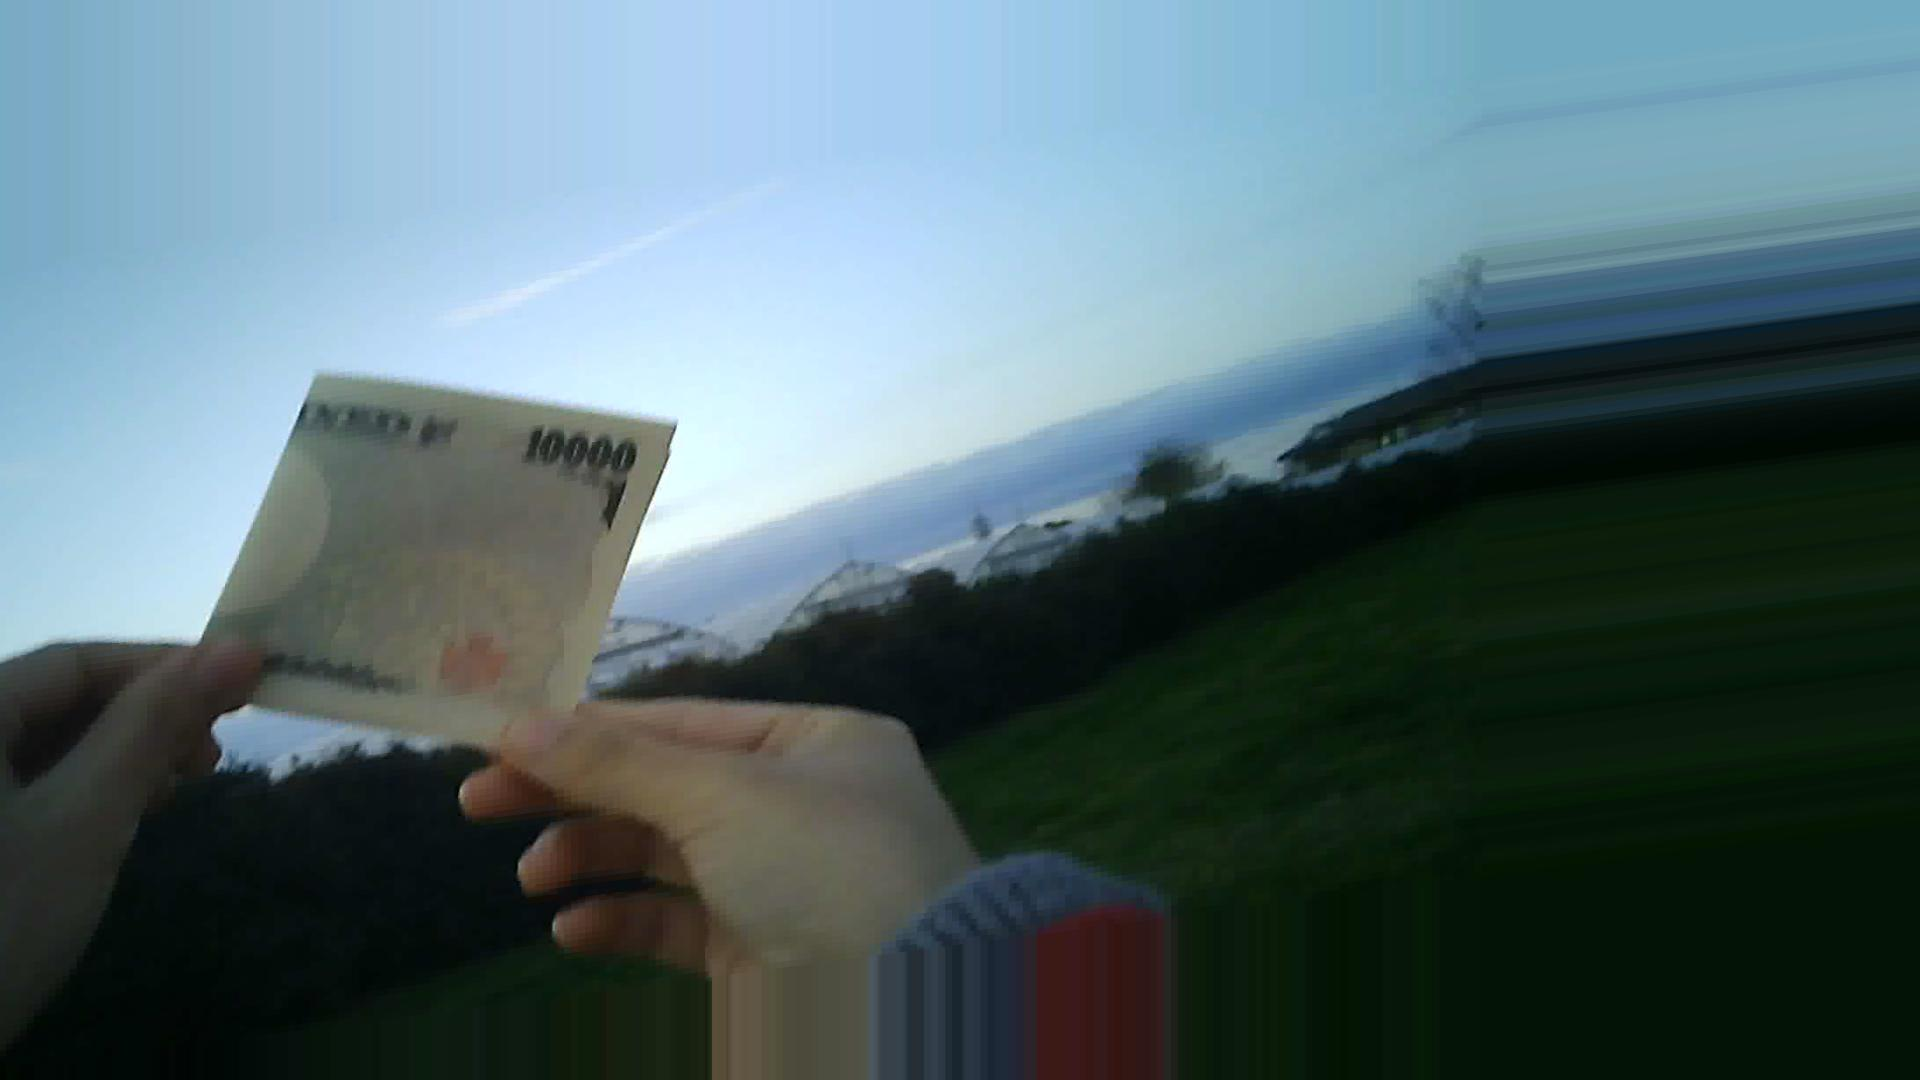10,000 Yen: (182, 376, 684, 742)
